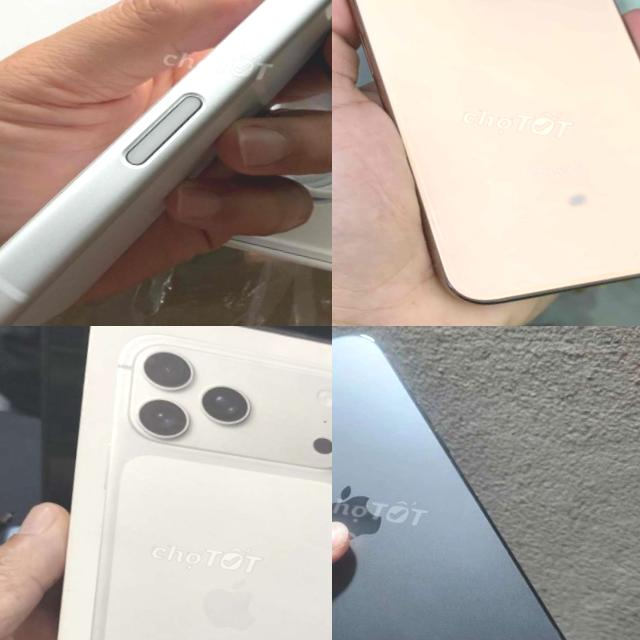gen_14: (332, 326, 639, 640)
gen_17: (0, 0, 332, 326), (52, 326, 332, 640)
gen_x_xs: (348, 0, 640, 303)
